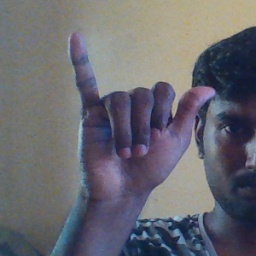J: (61, 28, 216, 193)
